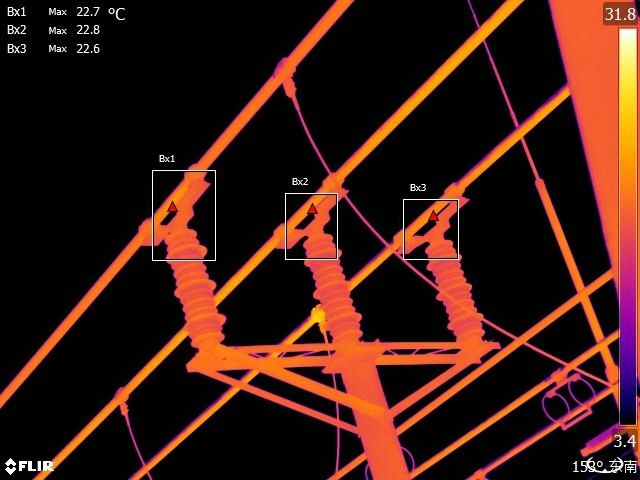clamp: (265, 44, 302, 98), (304, 296, 334, 337), (109, 379, 135, 416)
post insulator: (153, 217, 230, 345), (293, 227, 367, 339), (424, 234, 493, 346)
